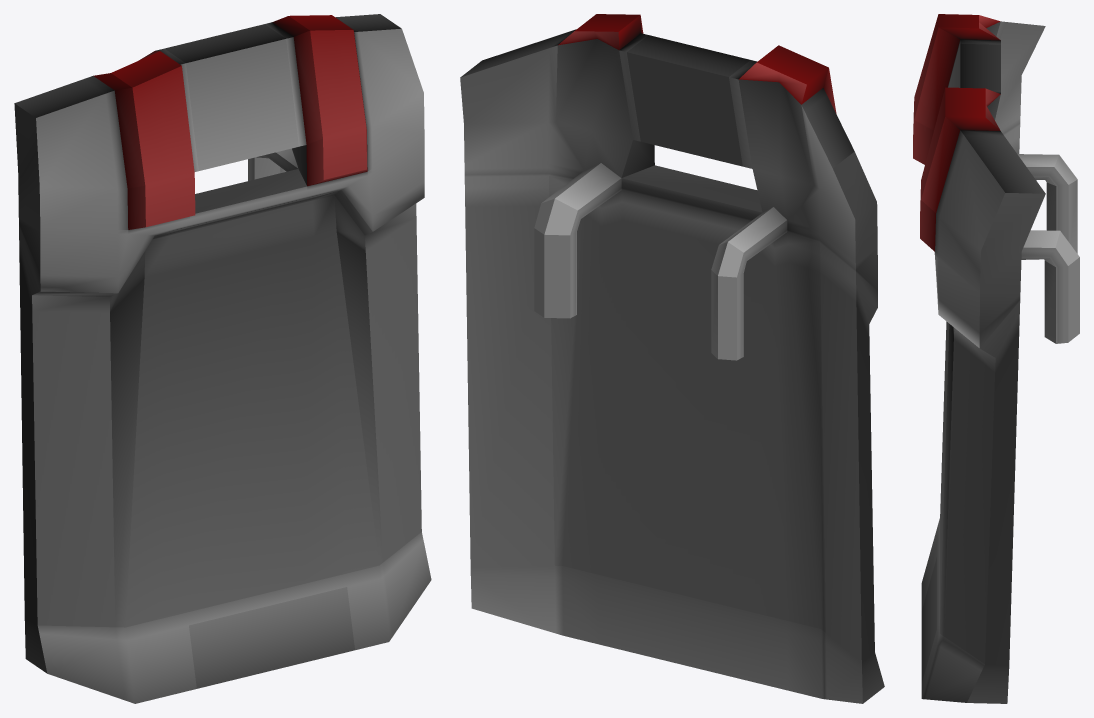
File: SHIELD.fbx
3 renders of one model, left to right at view 1: azimuth 30°, elevation 25°; view 2: azimuth 150°, elevation 25°; view 3: azimuth 270°, elevation 25°, orthographic. The views are drawn at different scales.
Visible parts, largest first — view 1: pCube3; view 2: pCube3; view 3: pCube3.
Part boxes in pixels (x1,y1,x2,y2): pCube3: (14, 14, 431, 703); pCube3: (460, 14, 884, 703); pCube3: (913, 14, 1079, 703).
Bounding box in the file's own units: 72.46 × 112 × 28.99.
